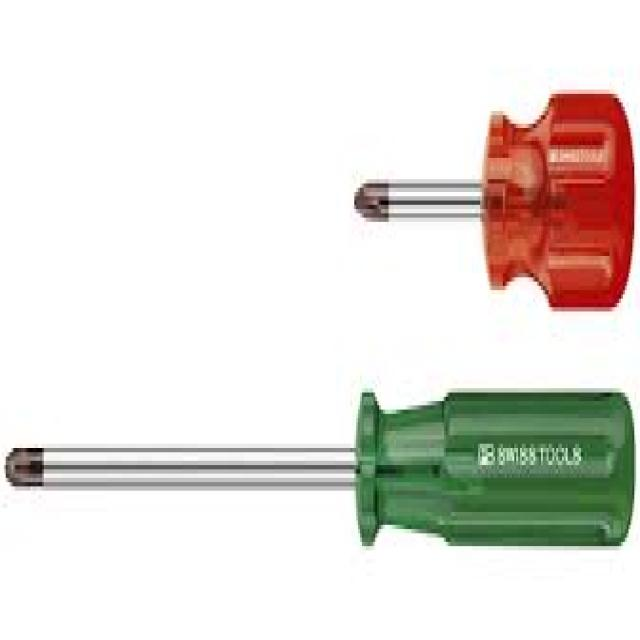screw driver: (7, 366, 640, 550), (319, 70, 640, 323)
